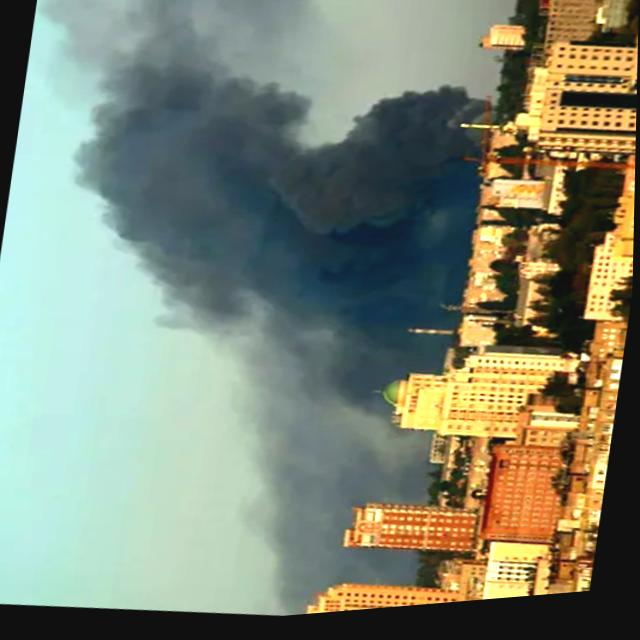Smoke: (34, 26, 494, 474)
